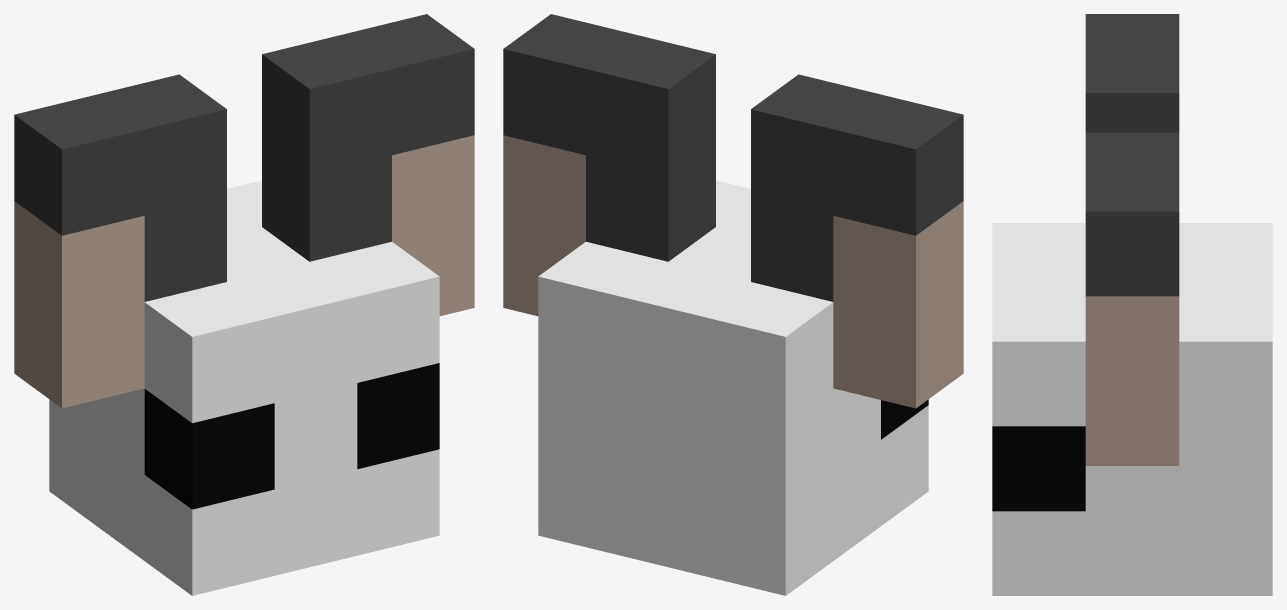
Rendered from bat head.obj.
3 views of the same model, side by side, from view 1: azimuth 30°, elevation 25°; view 2: azimuth 150°, elevation 25°; view 3: azimuth 270°, elevation 25° (orthographic).
Bounding box in the file's own units: 0.5 × 0.5 × 0.3.
Materials: 1 (1 with a texture image).
